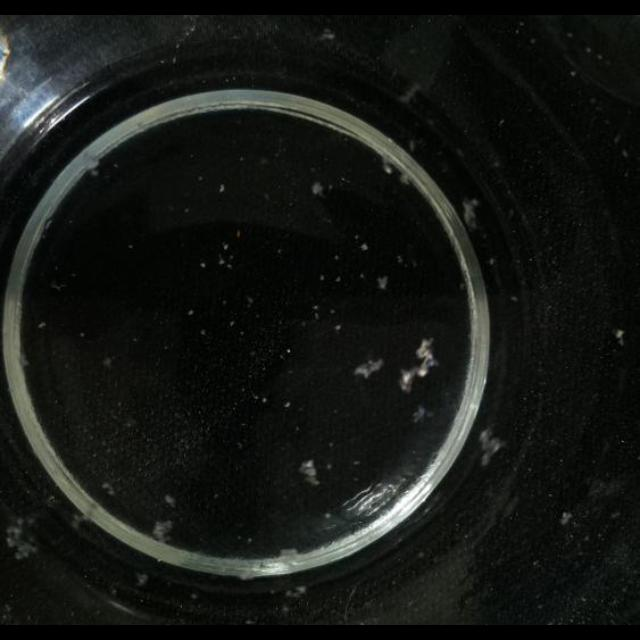Fibre: (399, 338, 439, 390), (4, 519, 41, 561), (479, 428, 507, 466), (353, 358, 383, 380), (462, 198, 481, 230), (300, 459, 320, 486), (151, 518, 173, 542), (416, 338, 436, 362), (412, 404, 428, 424), (100, 480, 116, 496), (312, 181, 326, 197), (319, 28, 335, 42), (614, 328, 626, 346), (560, 510, 572, 526), (376, 276, 388, 290), (164, 495, 176, 509), (102, 356, 114, 368), (361, 242, 369, 252)
